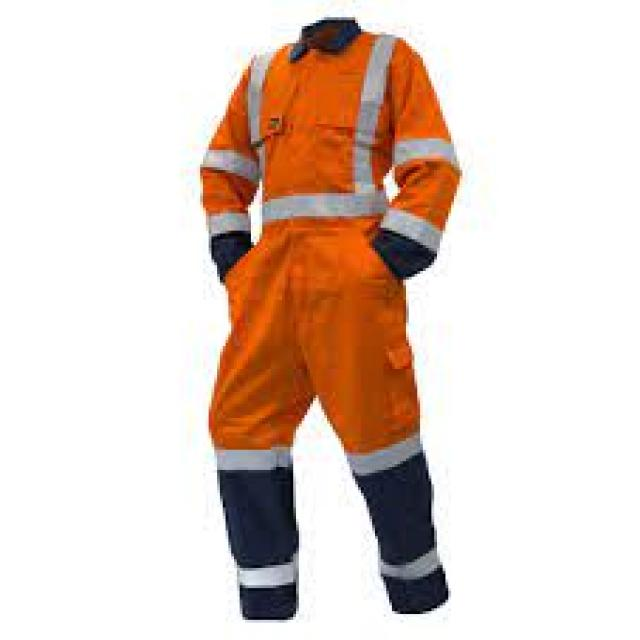vest: (200, 15, 461, 608)
